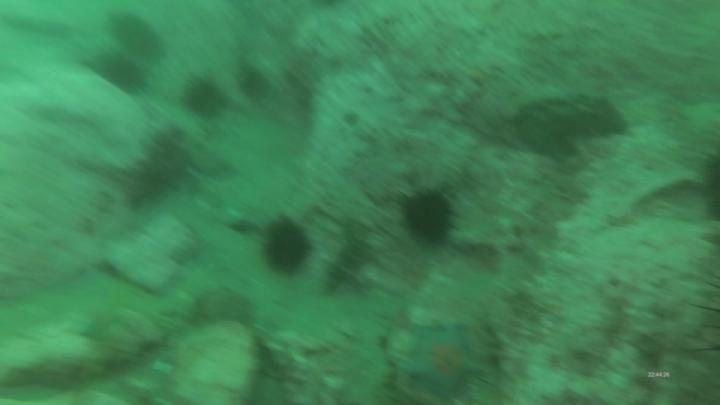echinus: (400, 183, 455, 249), (260, 214, 315, 278), (111, 10, 168, 61), (182, 74, 227, 119), (98, 55, 143, 97)
holothurian: (324, 215, 371, 296)
starfish: (400, 315, 490, 404)
